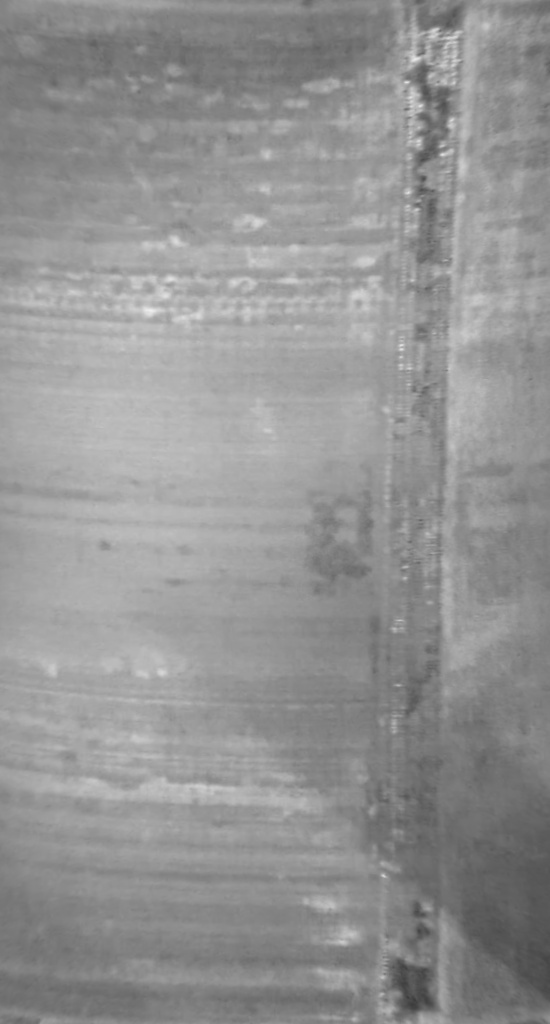splice: (382, 1, 469, 1023)
